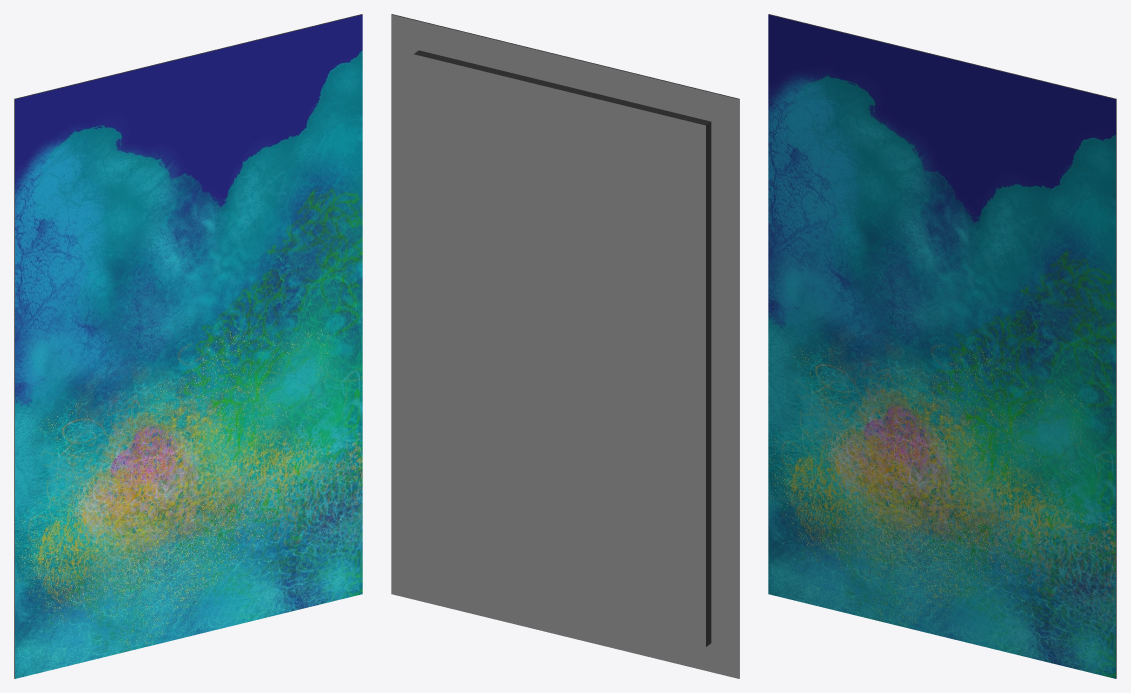
Rendered from os031_grand_dibond.glb.
3 renders of one model, left to right at view 1: azimuth 30°, elevation 25°; view 2: azimuth 150°, elevation 25°; view 3: azimuth 330°, elevation 25°, orthographic.
Visible parts, largest first — view 1: os031_grand_dibond; view 2: os031_grand_dibond; view 3: os031_grand_dibond.
Part boxes in pixels (x1=…): os031_grand_dibond: x1=14, y1=14, x2=362, y2=678; os031_grand_dibond: x1=391, y1=14, x2=739, y2=678; os031_grand_dibond: x1=768, y1=14, x2=1116, y2=678.
Bounding box in the file's own units: 0.7537 × 1.2 × 0.023.
Materials: 4 (1 with a texture image).
